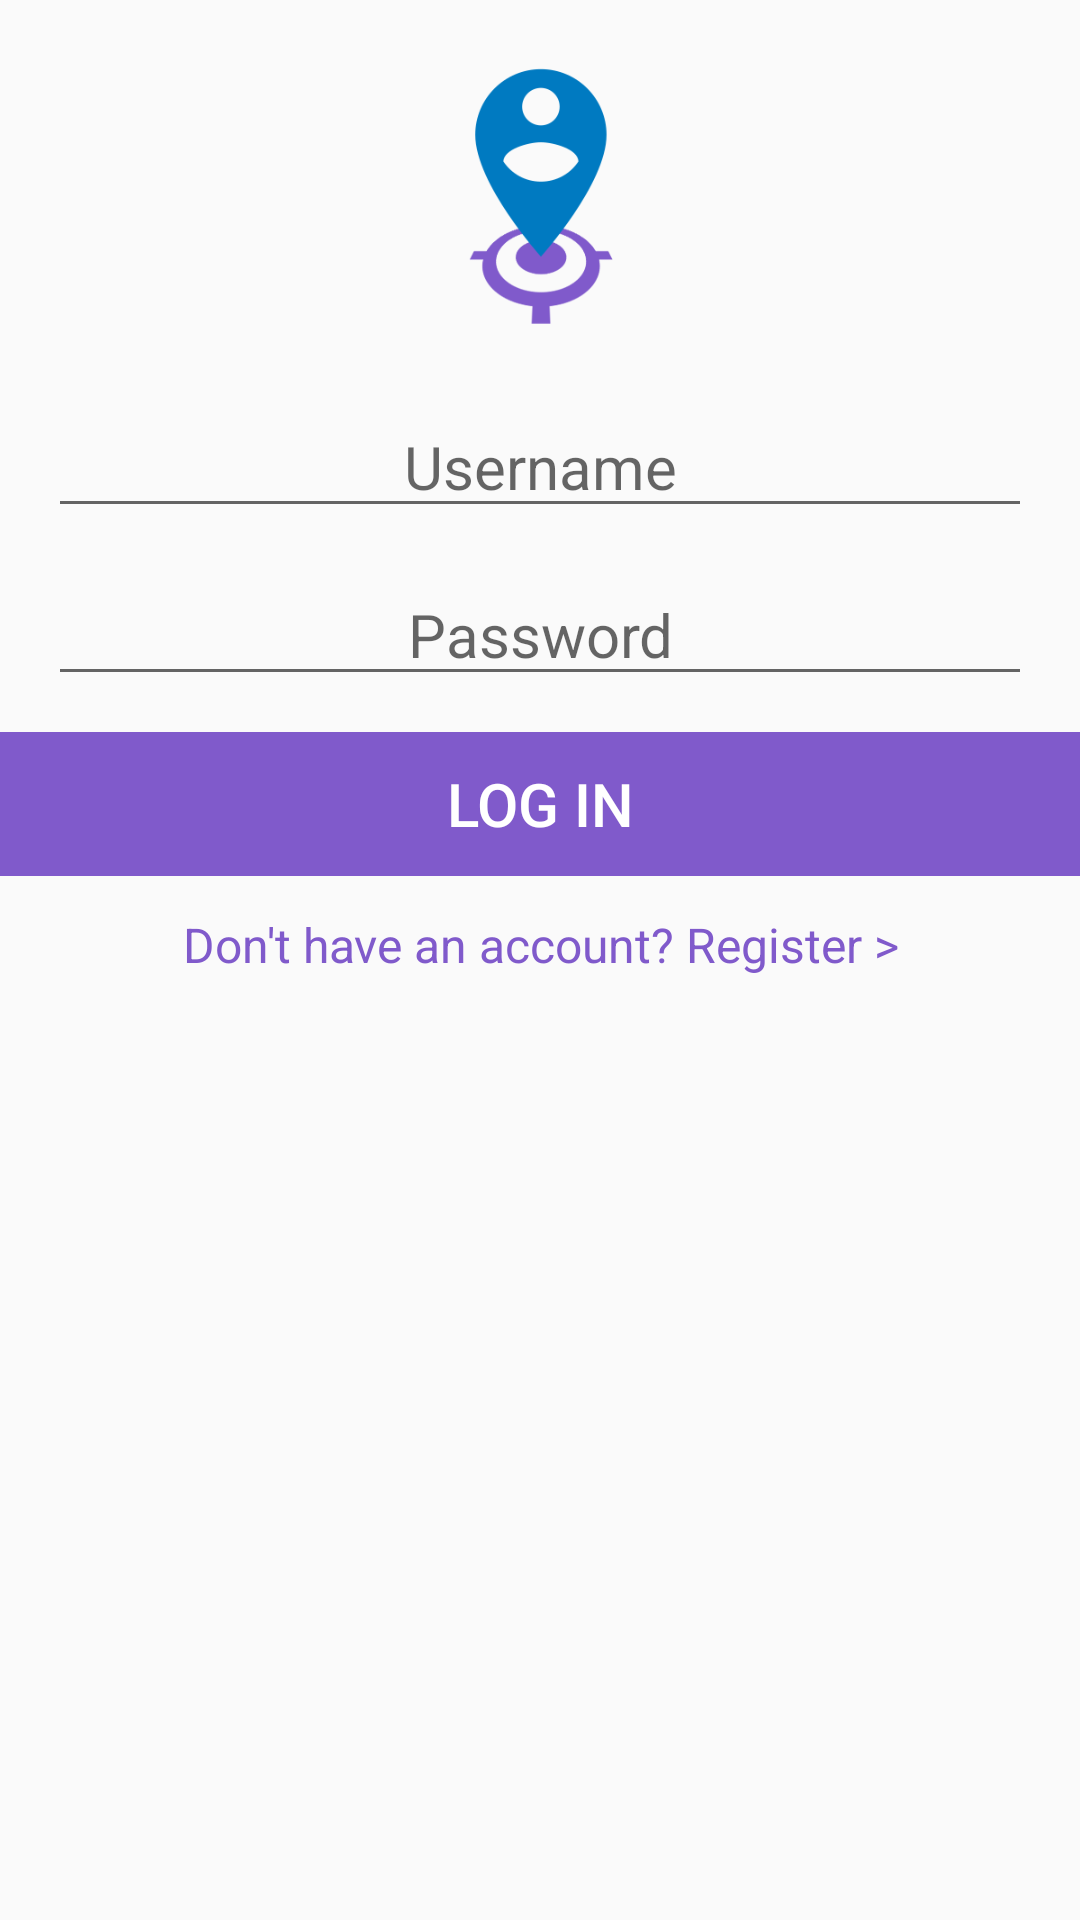

Named icons in this screenshot (1080px×1920px) and their centers, (x,y):
Travelations: (541,196)
